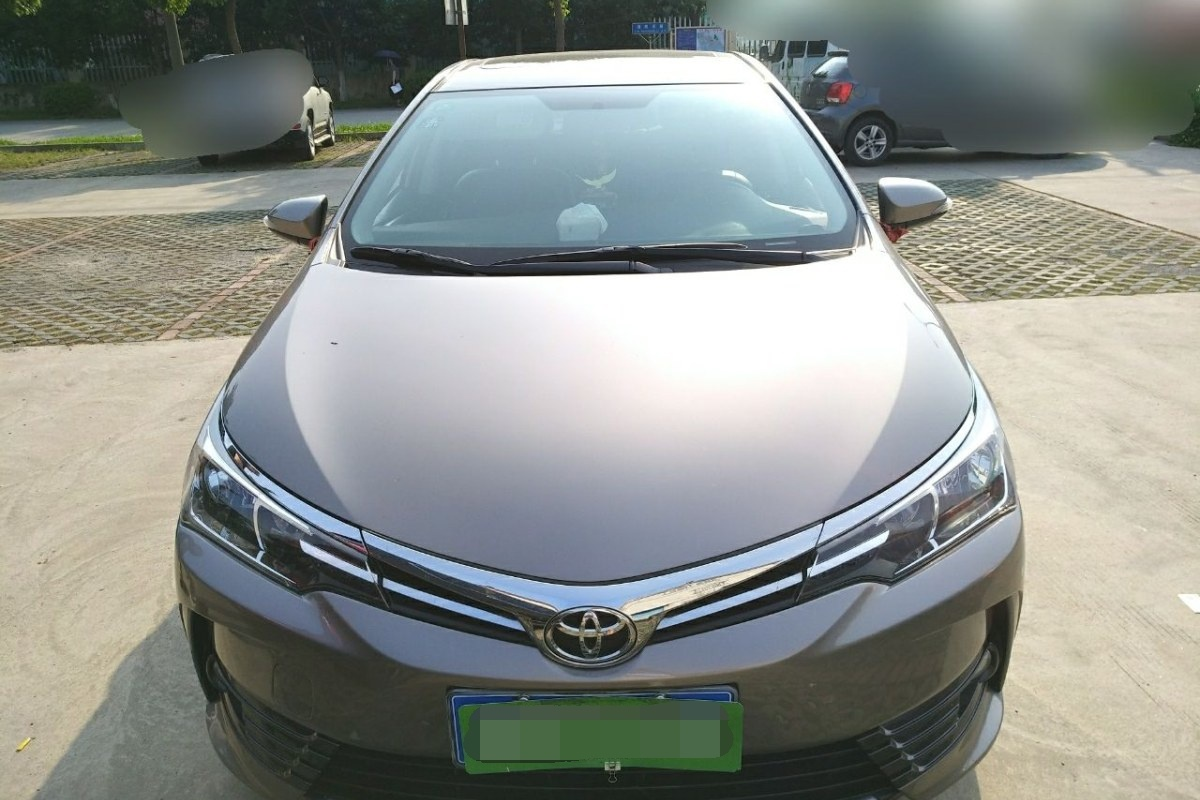family sedan: (190, 62, 1095, 791)
